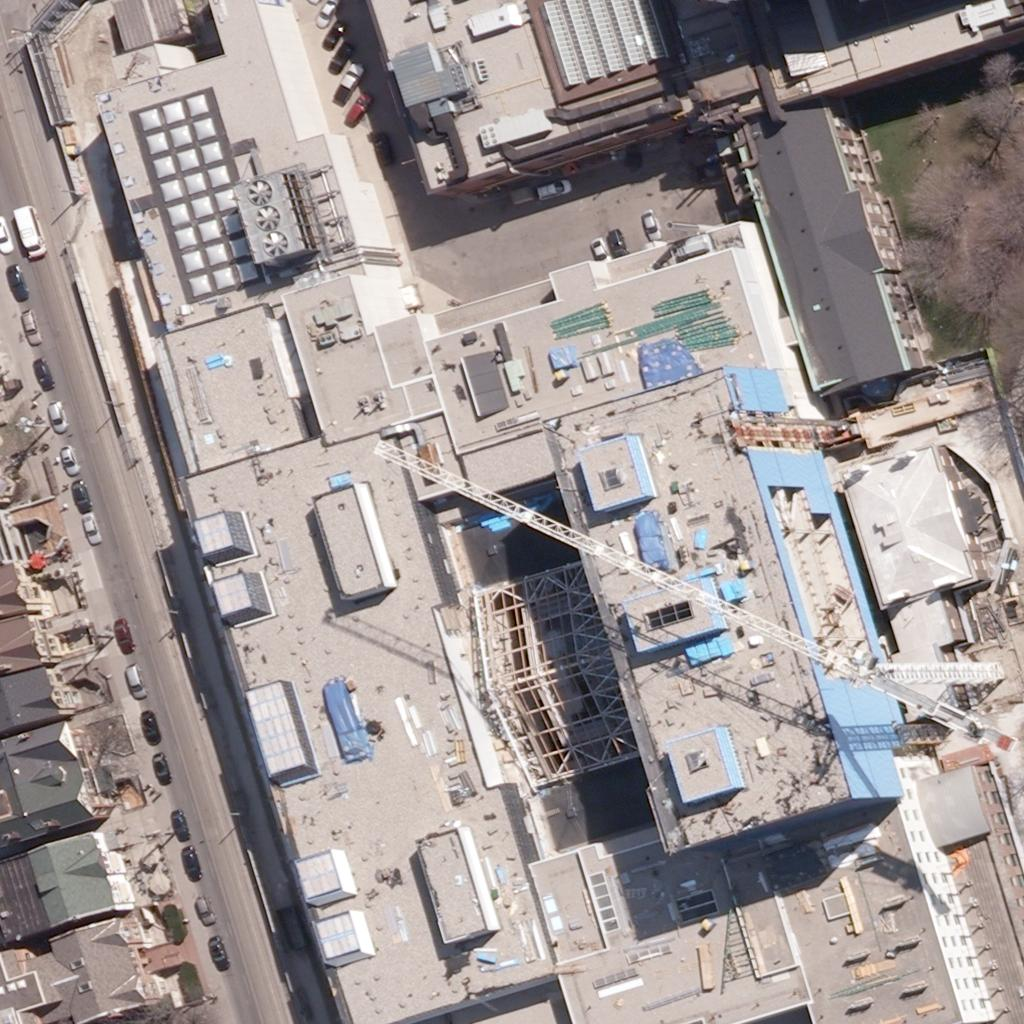car: (313, 22, 347, 56), (322, 39, 356, 73), (329, 63, 363, 97), (341, 91, 375, 125), (364, 131, 398, 165), (539, 167, 573, 201), (632, 207, 666, 241), (11, 222, 45, 256), (600, 224, 634, 258), (581, 234, 615, 268), (10, 307, 44, 341), (23, 356, 57, 390), (38, 399, 72, 433), (49, 440, 83, 474), (60, 476, 94, 510), (72, 509, 106, 543), (103, 618, 137, 652), (112, 659, 146, 693), (132, 706, 166, 740), (141, 748, 175, 782), (160, 811, 194, 845), (174, 849, 208, 883), (189, 894, 223, 928), (198, 938, 232, 972), (0, 262, 31, 296), (308, 0, 342, 30), (0, 214, 16, 248)
